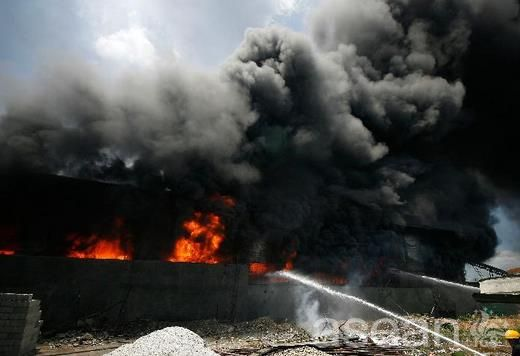fire: (177, 199, 241, 266), (72, 229, 133, 262), (255, 254, 298, 279)
